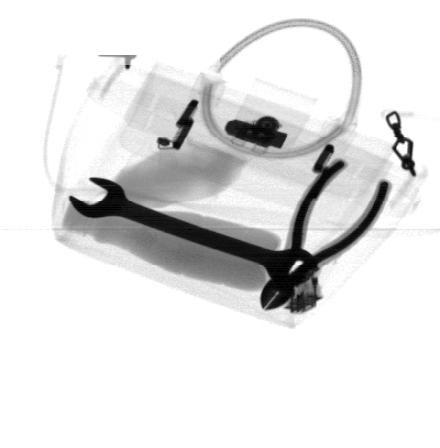Pliers: (259, 160, 392, 310)
Wrench: (68, 177, 316, 288)
